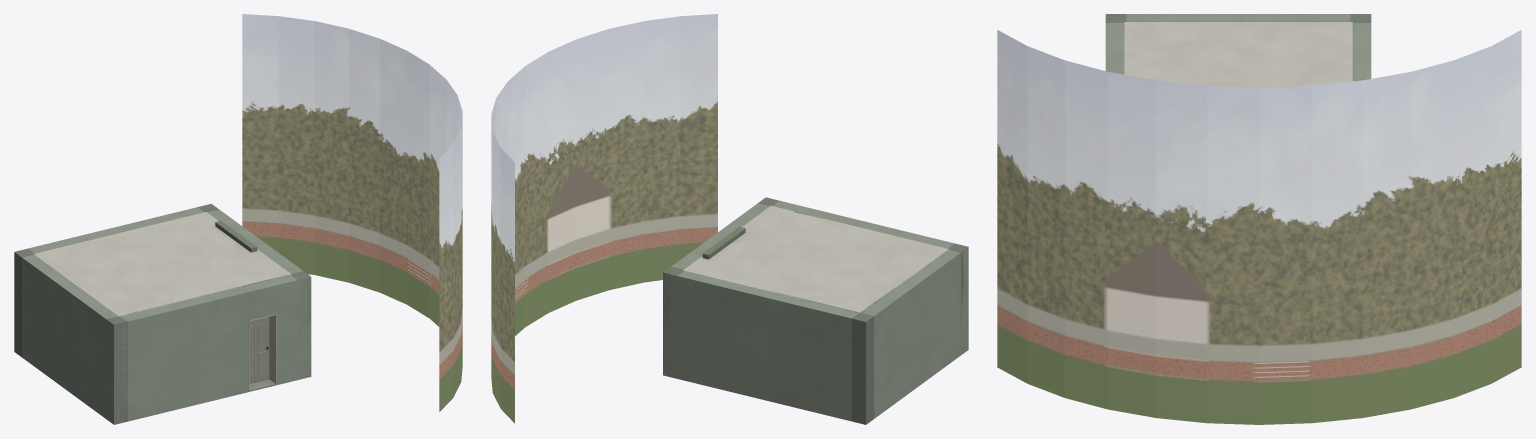
The model's file is longbourn_library.gltf.
3 views of the same model, side by side, from view 1: azimuth 30°, elevation 25°; view 2: azimuth 150°, elevation 25°; view 3: azimuth 270°, elevation 25° (orthographic). The views are drawn at different scales.
Parts seen in each view (by area): view 1: far.windowView, MESH_WallPaint, MESH_Ceiling, MESH_DoorPaint, MESH_Joinery, MESH_Curtains; view 2: far.windowView, MESH_WallPaint, MESH_Ceiling; view 3: far.windowView, MESH_Ceiling, MESH_WallPaint.
Boxes of the visible parts, left/top/right/bottom form: far.windowView: left=242, top=14, right=462, bottom=411; MESH_WallPaint: left=14, top=203, right=311, bottom=424; MESH_Ceiling: left=34, top=212, right=291, bottom=316; MESH_DoorPaint: left=249, top=316, right=269, bottom=383; MESH_Joinery: left=249, top=314, right=276, bottom=389; MESH_Curtains: left=215, top=220, right=257, bottom=252; far.windowView: left=491, top=14, right=717, bottom=423; MESH_WallPaint: left=663, top=197, right=968, bottom=424; MESH_Ceiling: left=683, top=205, right=948, bottom=312; far.windowView: left=997, top=30, right=1521, bottom=424; MESH_Ceiling: left=1124, top=22, right=1352, bottom=87; MESH_WallPaint: left=1105, top=14, right=1371, bottom=81.
Size of the model in its own units: 12.3 by 8 by 11.26.
Materials: 33 (33 with a texture image).
